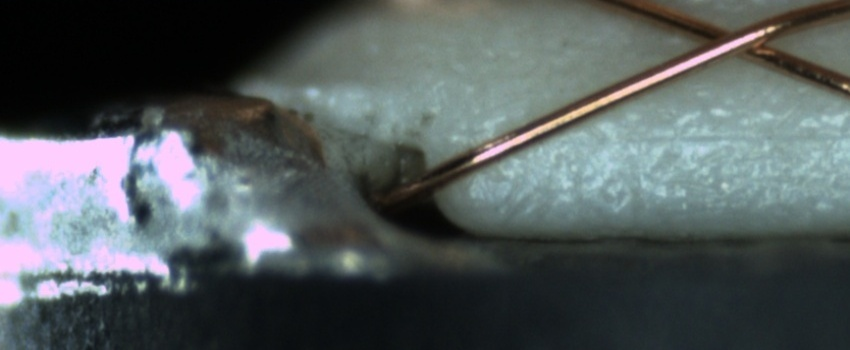CL: (676, 10, 797, 67)
DL: (577, 101, 846, 165)
